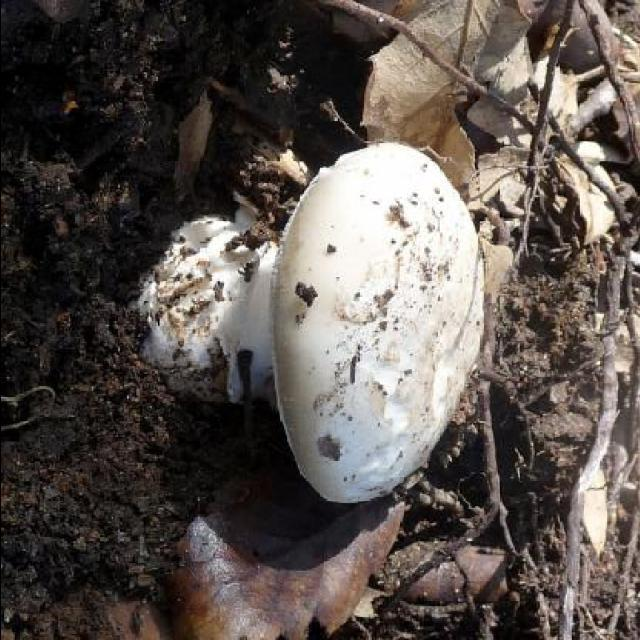Mushroom: (156, 116, 488, 522)
